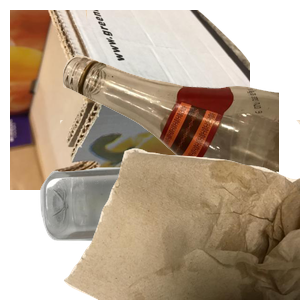cardboard: (10, 10, 250, 190)
glass: (60, 10, 300, 190)
plastic: (38, 165, 255, 300)
trash: (60, 120, 300, 300)
